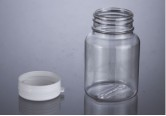medicinejar: (15, 6, 143, 104)
